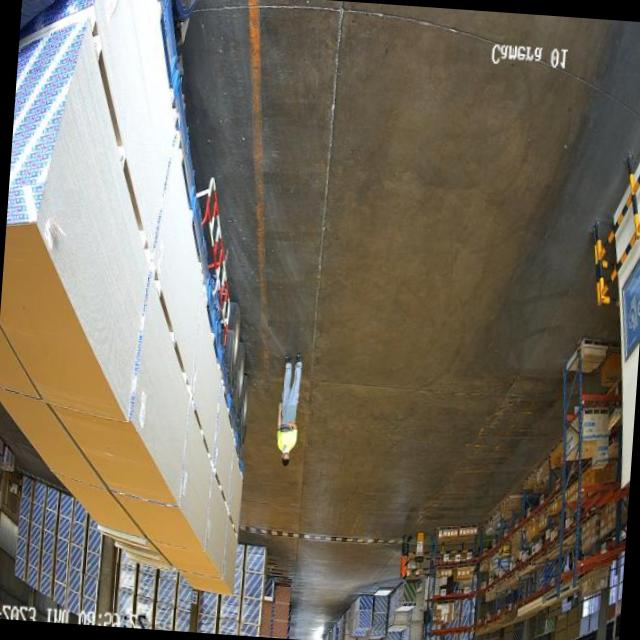person: (272, 346, 306, 473), (398, 534, 412, 586)
